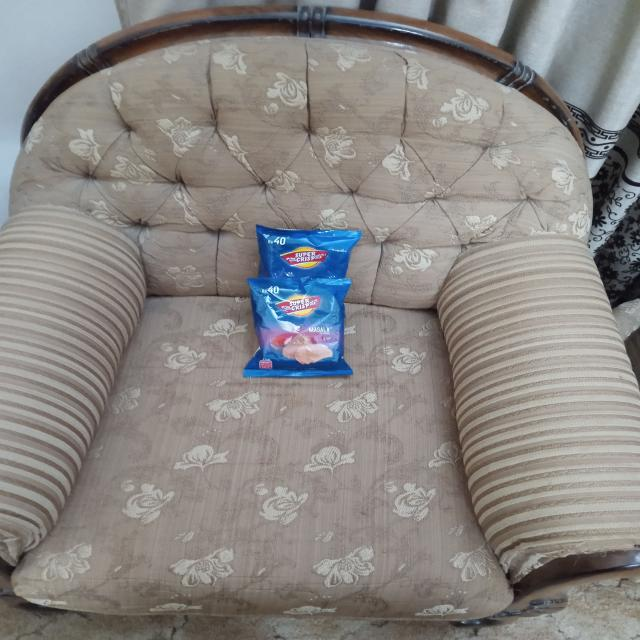Plastic: (254, 281, 347, 377), (256, 229, 355, 280)
